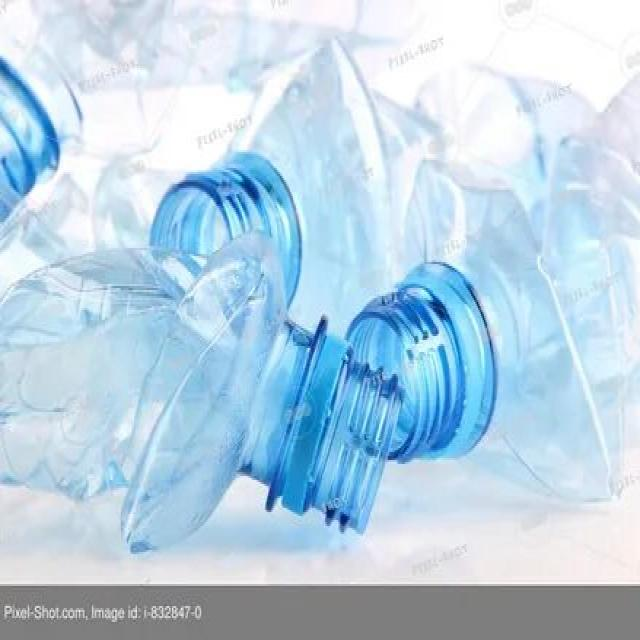blue: (4, 230, 408, 552)
